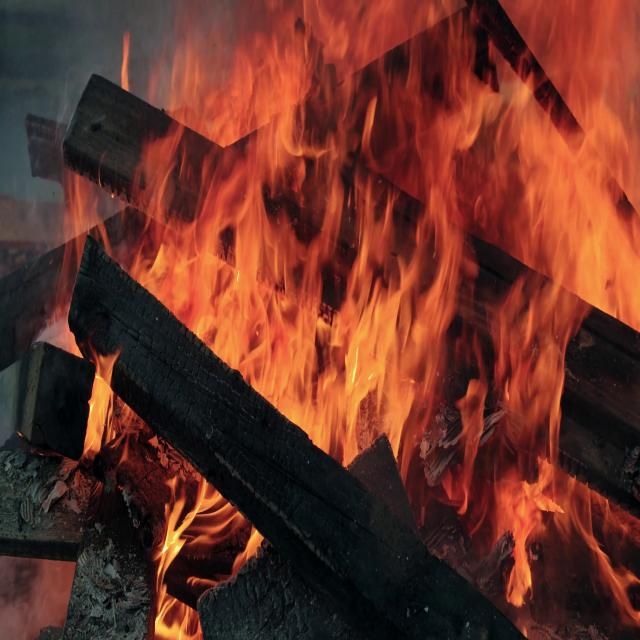Fire: (37, 0, 640, 640)
